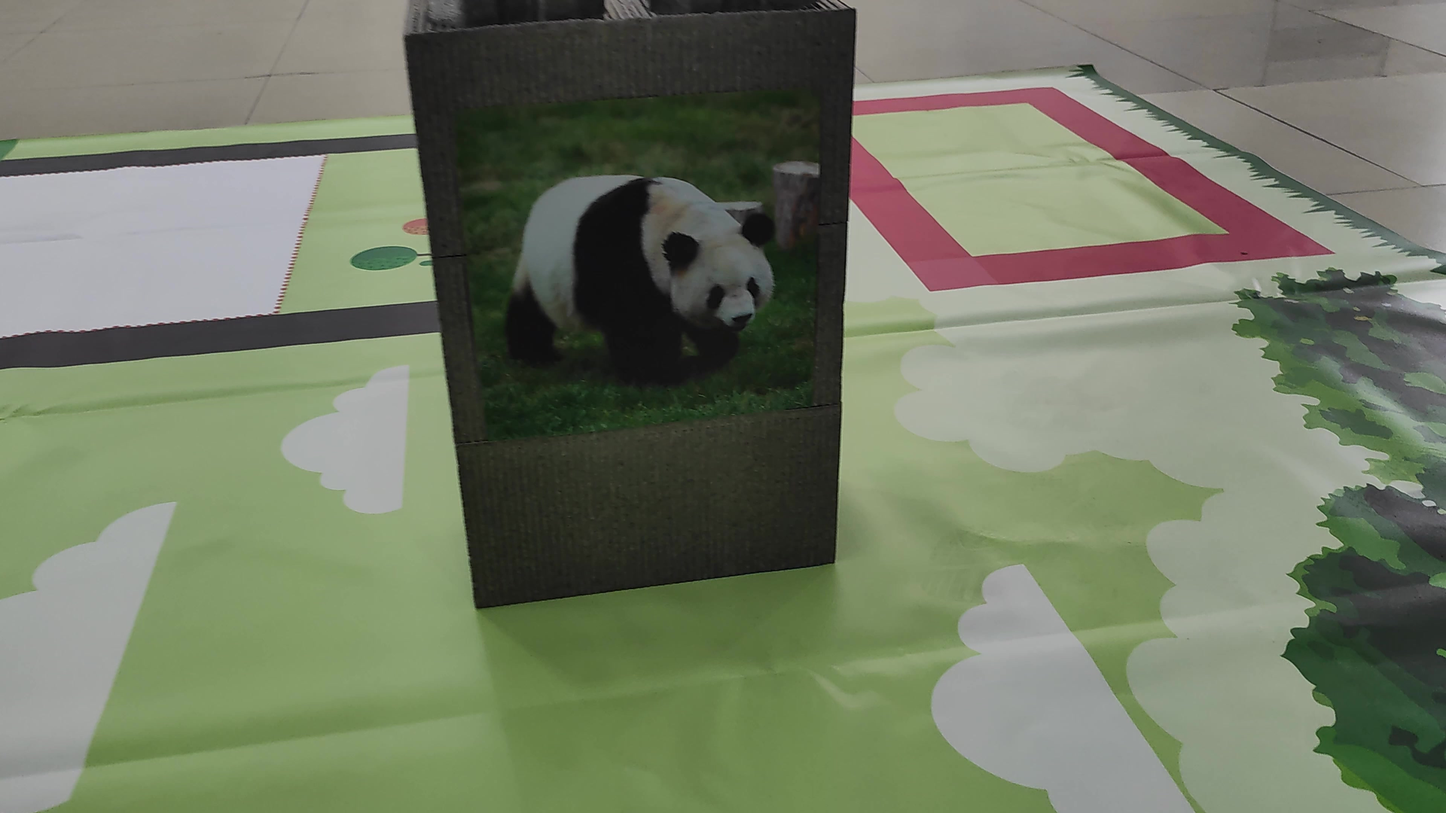panda: (478, 149, 797, 394)
